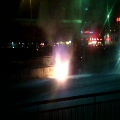fire: (55, 57, 68, 80)
